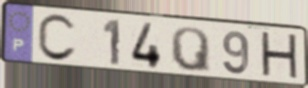1: (101, 18, 122, 68)
4: (129, 21, 164, 71)
9: (220, 30, 250, 76)
C: (36, 13, 79, 64)
H: (258, 30, 301, 83)
Q: (168, 25, 213, 75)
